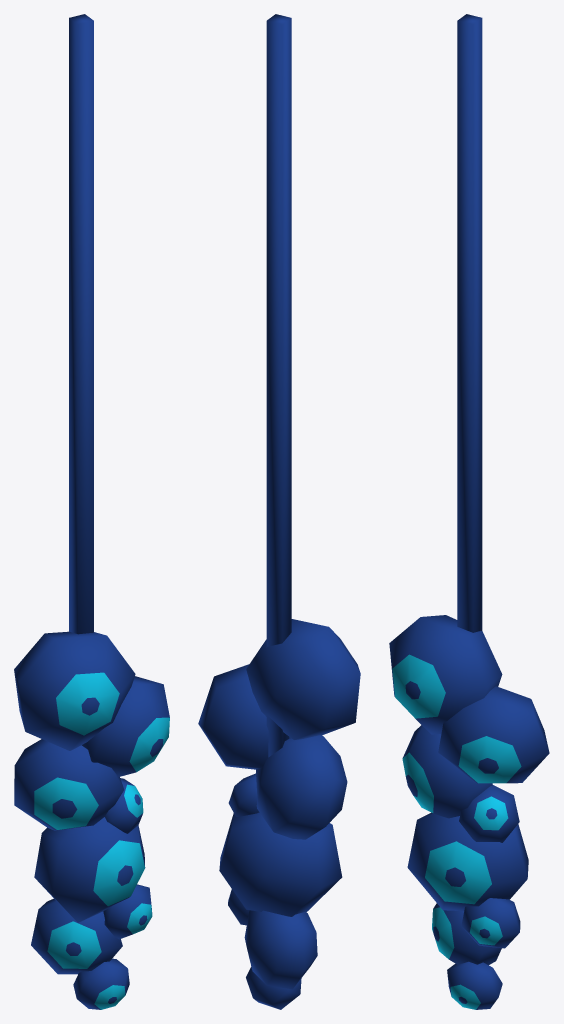
The model's file is Prop_Lamps_04.fbx.
3 views of the same model, side by side, from view 1: azimuth 30°, elevation 25°; view 2: azimuth 150°, elevation 25°; view 3: azimuth 330°, elevation 25° (orthographic).
Visible parts, largest first — view 1: Cube.004; view 2: Cube.004; view 3: Cube.004.
Part boxes in pixels (x1,y1,x2,y2): Cube.004: (14,14,169,1009); Cube.004: (198,14,360,1009); Cube.004: (389,14,549,1009).
Bounding box in the file's own units: 1.22 × 7.56 × 0.7678.
